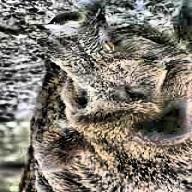boar: (24, 7, 192, 192)
